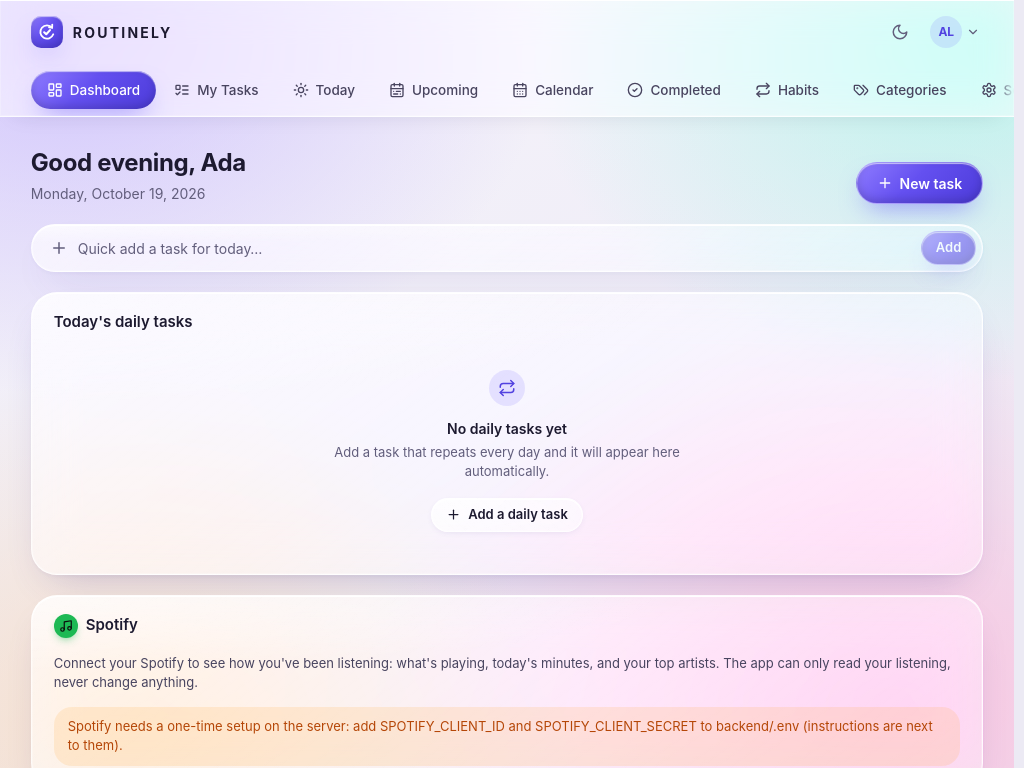
dashboard: today's daily tasks › offers to add a daily task when there are none, opening the form set to repeat
What coordinates should you click on to do the following:
click the button "Add a daily task"
I would click on:
 (507, 514)
Its box is [431,498,583,532].
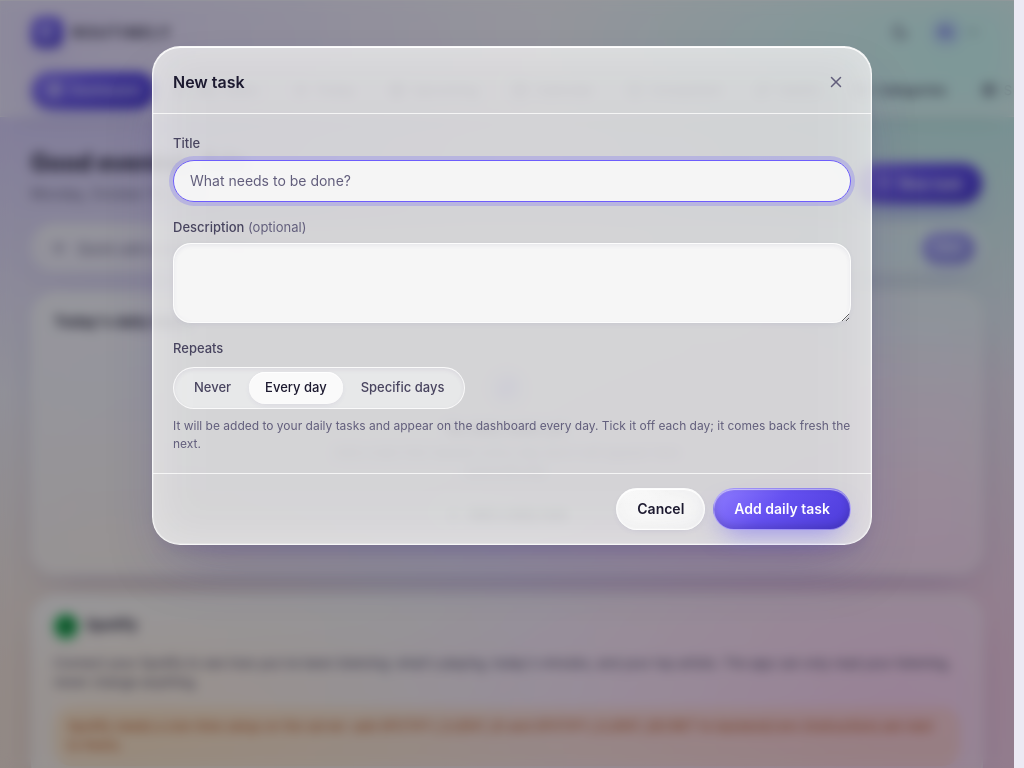
Now the button "Add daily task" is shown, box [713,488,851,530]
